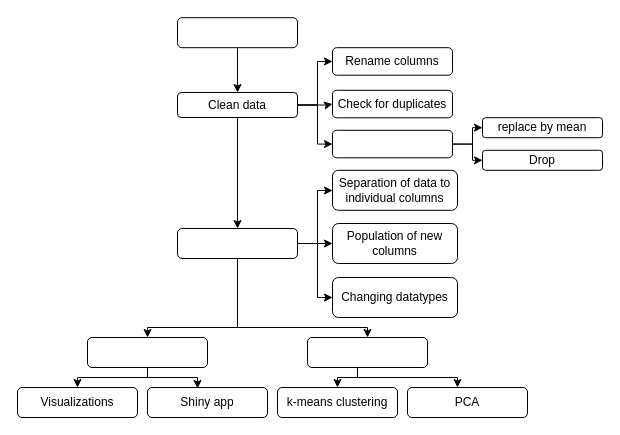
Image size: 620x435. Some labels were removed from this diagram. Here are the shapes that lost their labels. From the top down, the centre of each, then its label:
point (237, 32): Load data
point (392, 143): NA treatment
point (237, 243): Augment data
point (147, 352): data_clean_aug
point (367, 352): data_clean_num
